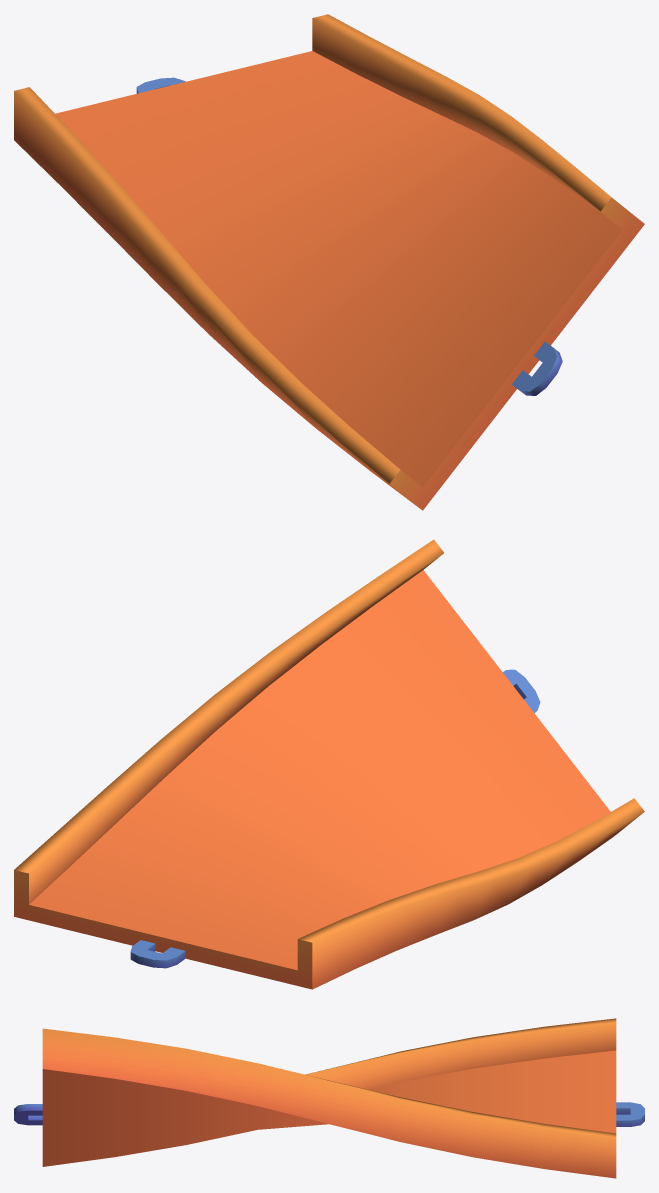
Rendered from track-wide-straight-skew-right.glb.
The picture shows the model from 3 angles, top to bottom: view 1: azimuth 30°, elevation 25°; view 2: azimuth 150°, elevation 25°; view 3: azimuth 270°, elevation 25°; orthographic projection. The views are drawn at different scales.
Parts seen in each view (by area): view 1: track-wide-straight-skew-right; view 2: track-wide-straight-skew-right; view 3: track-wide-straight-skew-right.
Boxes of the visible parts, x1,y1,x2,y2 form: track-wide-straight-skew-right: (14, 14, 644, 510); track-wide-straight-skew-right: (14, 539, 644, 989); track-wide-straight-skew-right: (14, 1018, 644, 1178).
Bounding box in the file's own units: 6.13 × 4.88 × 13.2.
Materials: 1 (1 with a texture image).
